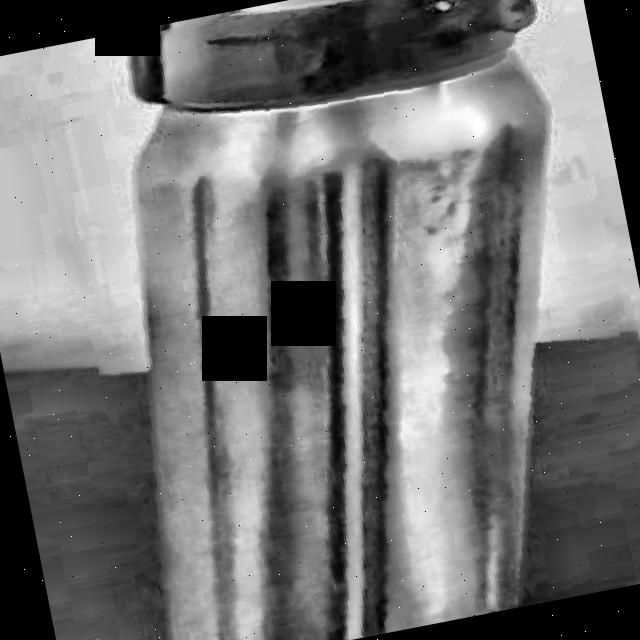bottle: (127, 0, 556, 640)
